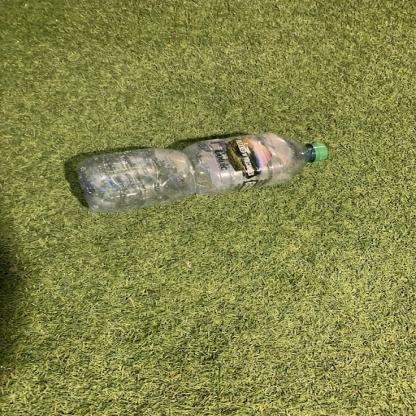trash: (72, 132, 329, 214)
